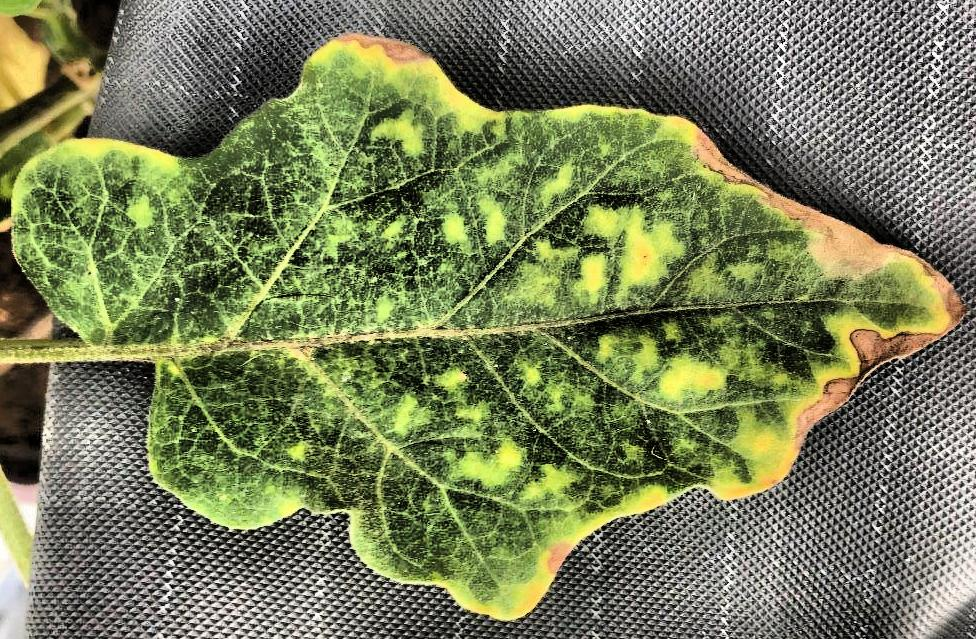Non-critical Stress: (1, 0, 976, 639)
